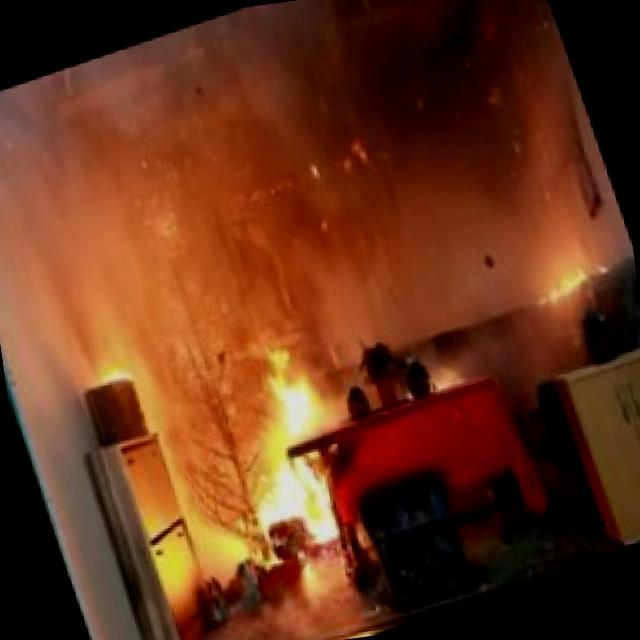fire: (186, 316, 400, 574)
